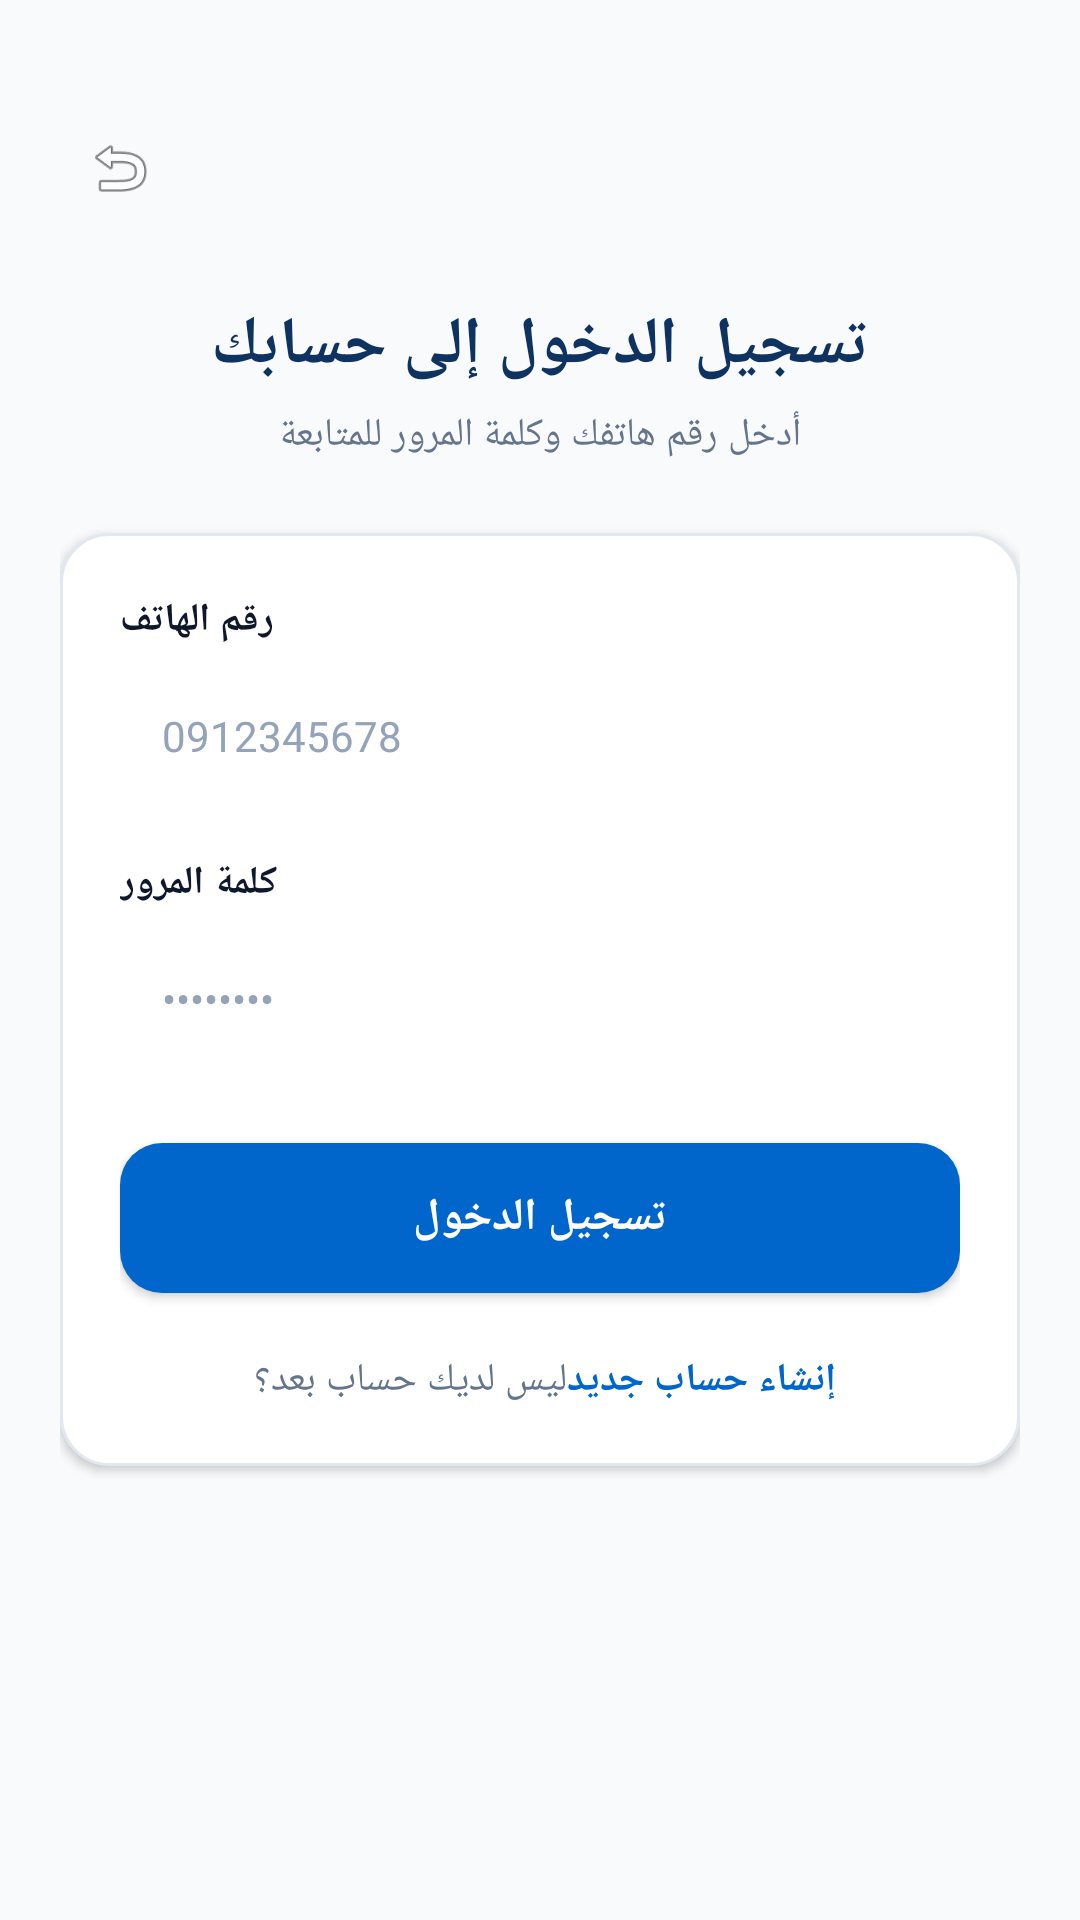

Screen size 1080px x 1920px. Icon name, then its box in pixels as (x1, y1, x2, y2):
رجوع: (95, 145, 147, 192)
